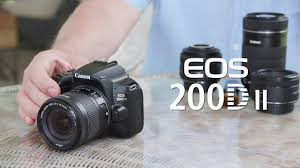camera: (36, 63, 143, 150)
